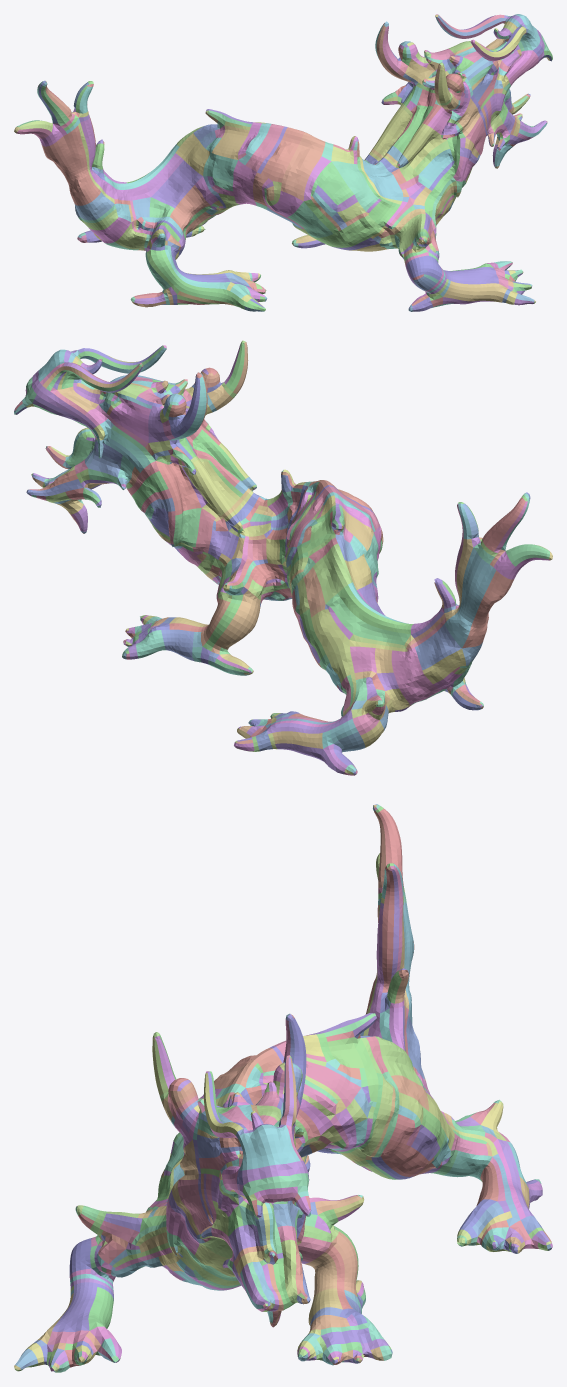
File: dragon_patch_color.obj
3 views of the same model, one above another, from view 1: azimuth 30°, elevation 25°; view 2: azimuth 150°, elevation 25°; view 3: azimuth 270°, elevation 25° (orthographic). The views are drawn at different scales.
Bounding box in the file's own units: 201 × 89.64 × 133.
